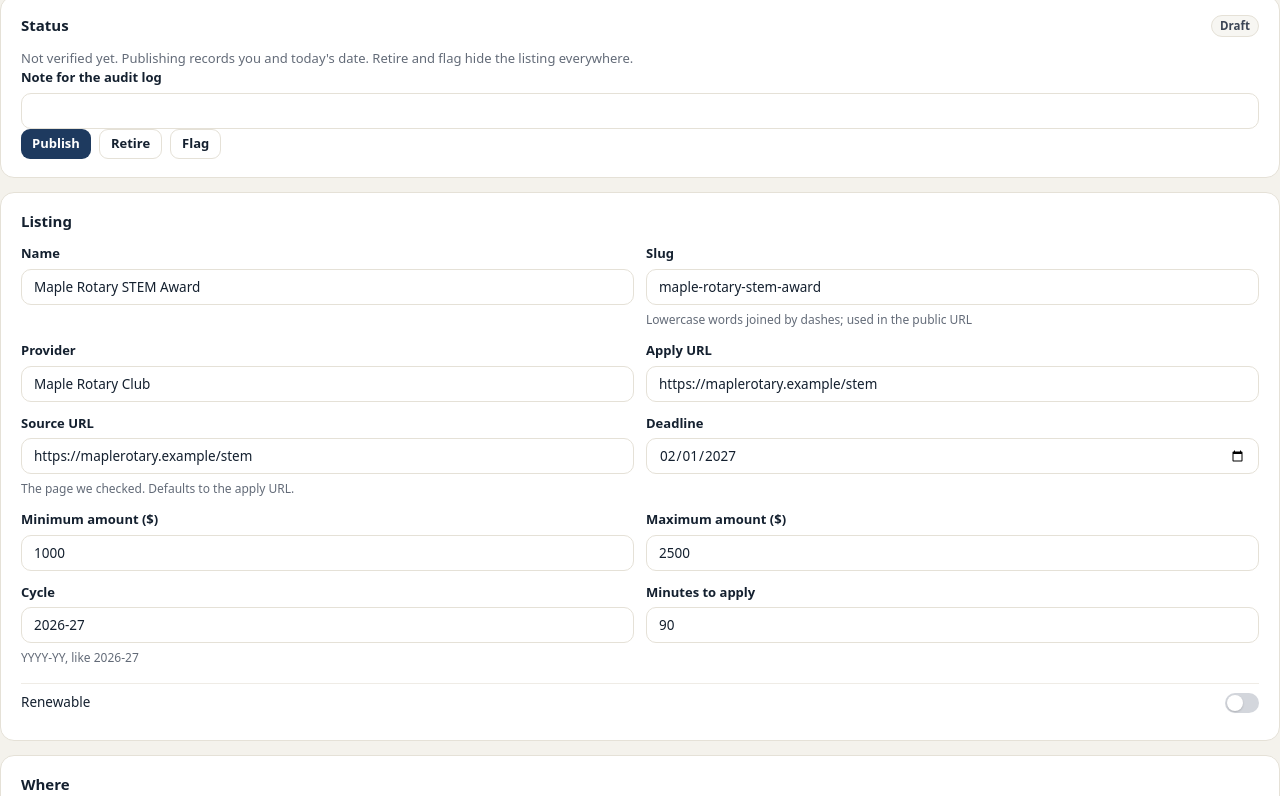
Test: ScholarshipEditor › shows field errors and sends nothing
Replace the text in the field labelled "Minimum amount ($)" with "5000" at (328, 553), box [21, 535, 634, 571]
(page scrolled)
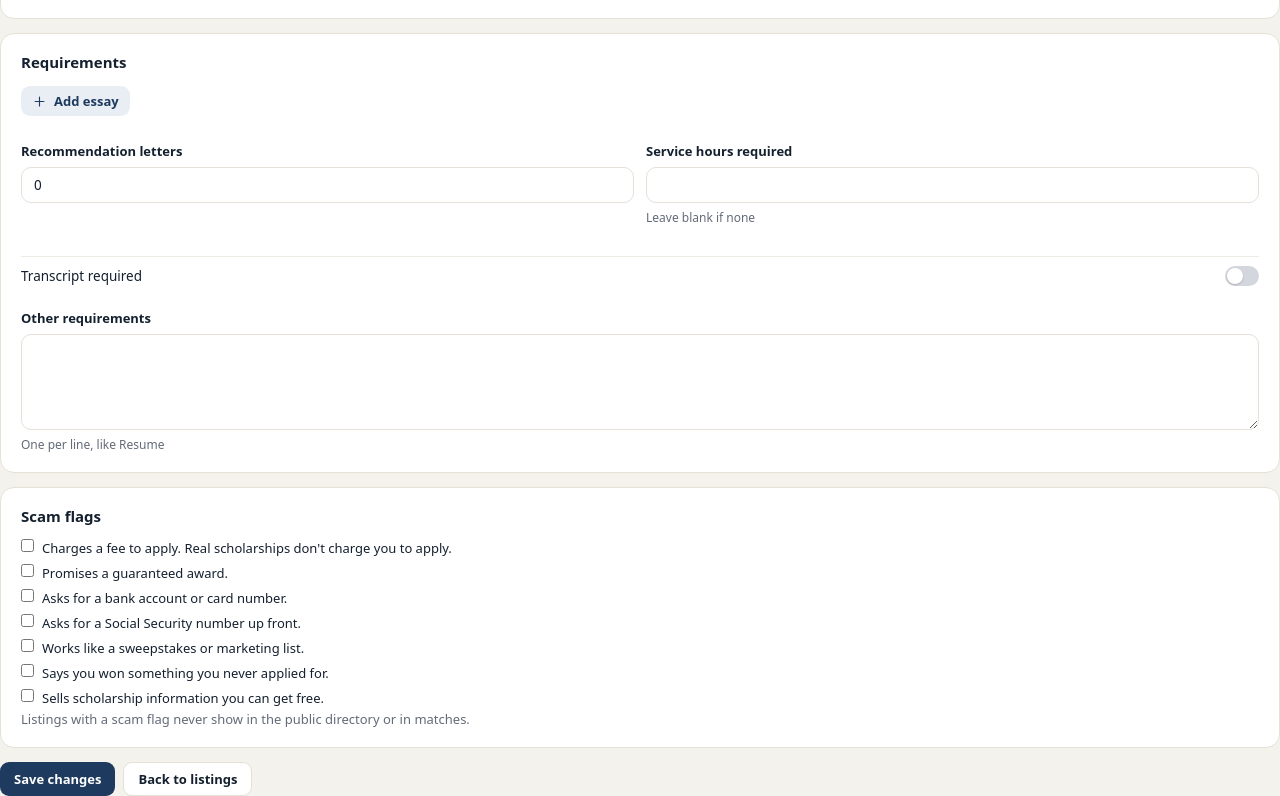
Click the button "Save changes" at (58, 779), box [0, 762, 116, 795]
(page scrolled)
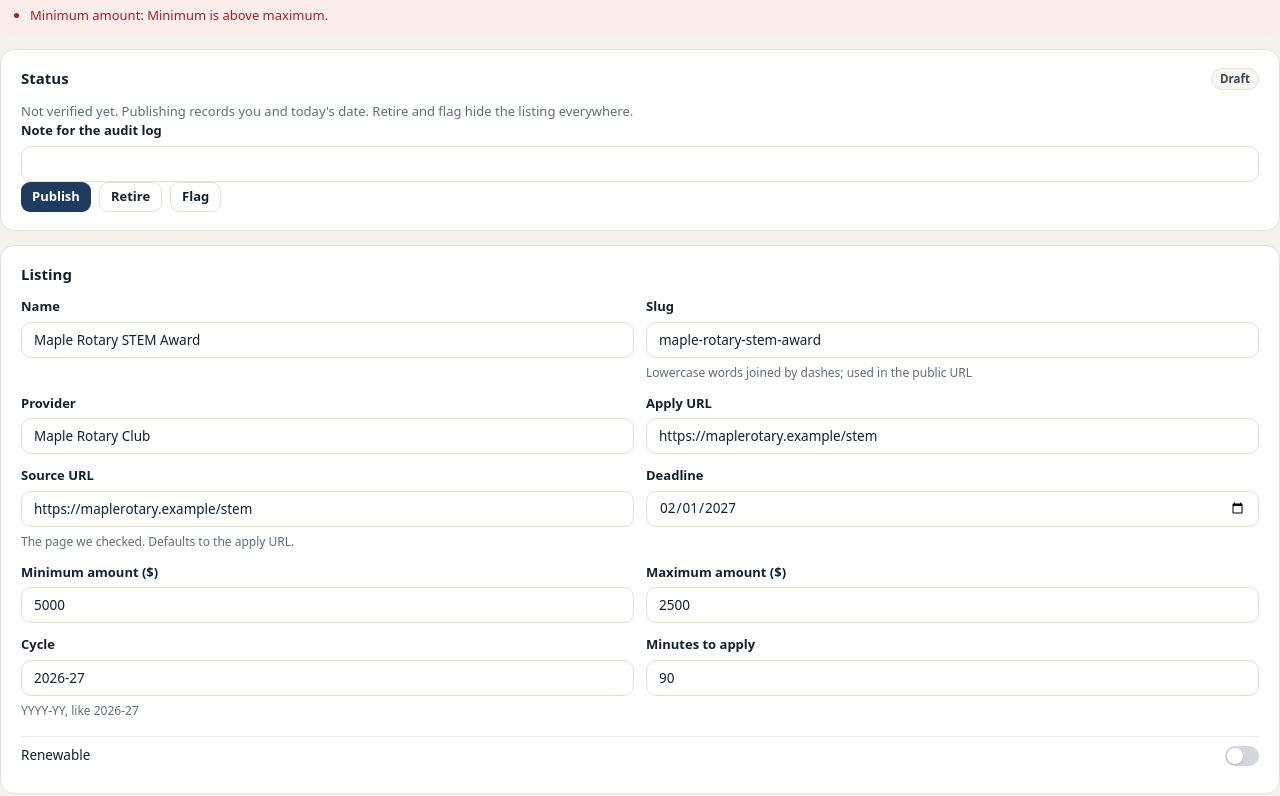
expect the message reads "Minimum amount: Minimum is above maximum.": met, box [30, 6, 328, 24]
